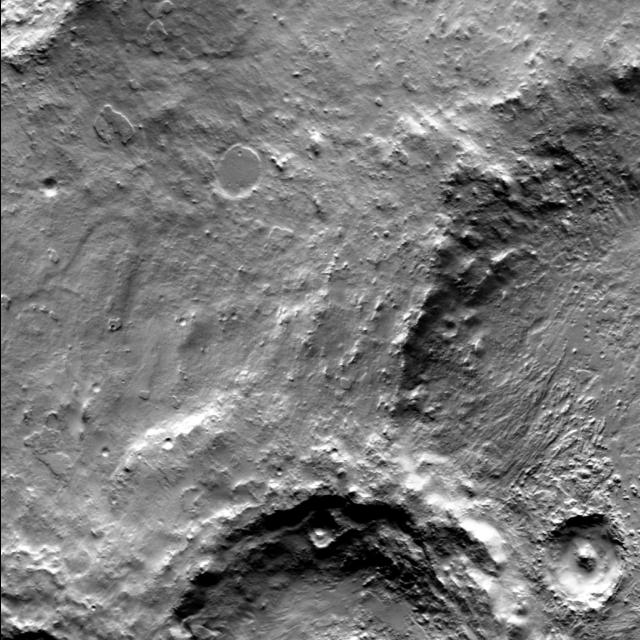crater: (542, 518, 624, 610), (216, 148, 264, 202), (307, 512, 339, 548), (41, 179, 59, 199), (443, 322, 459, 339), (162, 439, 174, 451), (90, 385, 99, 395), (98, 450, 106, 459), (581, 280, 588, 288), (276, 468, 283, 476), (180, 321, 188, 328), (239, 308, 245, 314)
